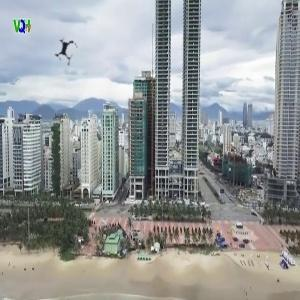drone: (45, 29, 90, 74)
